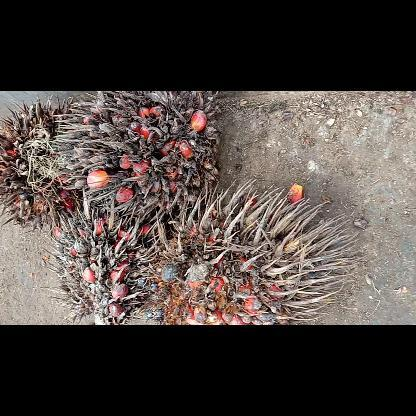Terlalu masak: (128, 174, 366, 324), (52, 90, 228, 226), (40, 194, 158, 324), (0, 90, 91, 240)
